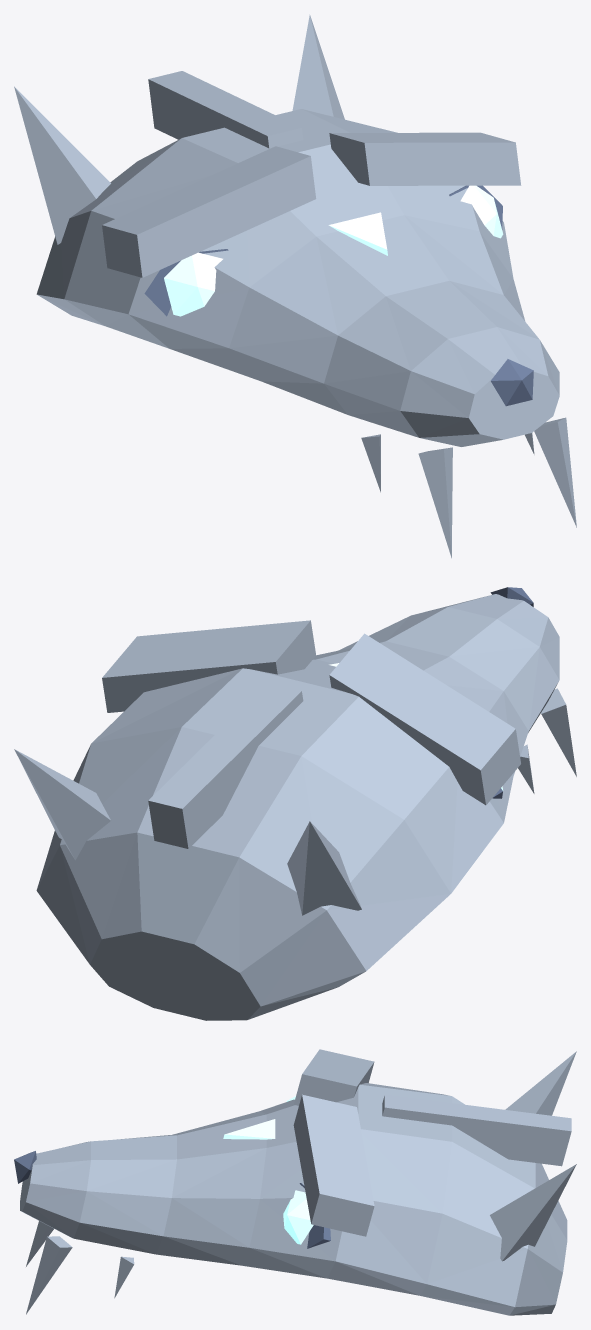
Rendered from A2S_SpiritWolfMask.fbx.
3 renders of one model, top to bottom at view 1: azimuth 30°, elevation 25°; view 2: azimuth 150°, elevation 25°; view 3: azimuth 270°, elevation 25°, orthographic. The views are drawn at different scales.
Visible parts, largest first — view 1: A2S_SpiritWolfMask; view 2: A2S_SpiritWolfMask; view 3: A2S_SpiritWolfMask.
Boxes of the visible parts, x1,y1,x2,y2 form: A2S_SpiritWolfMask: (14, 14, 576, 558); A2S_SpiritWolfMask: (14, 587, 576, 1020); A2S_SpiritWolfMask: (14, 1049, 576, 1315).
Size of the model in its own units: 16.59 by 11.14 by 26.74.
